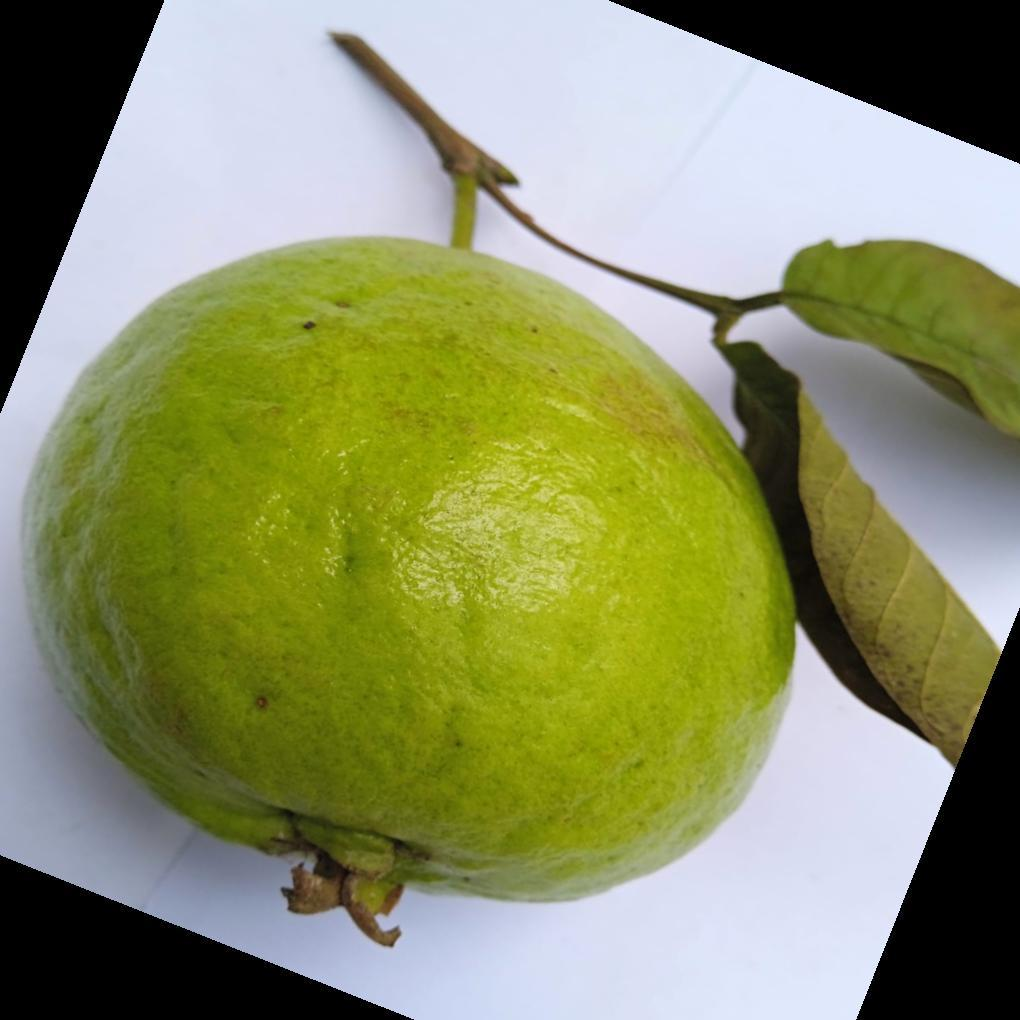FreshGuava: (21, 236, 798, 948)
